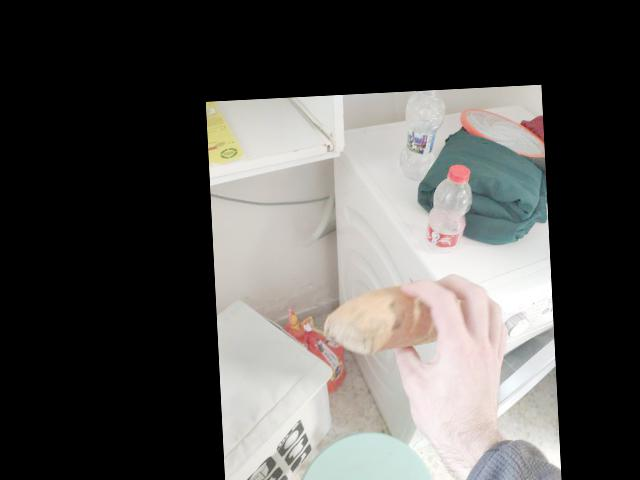sweet_potato: (356, 287, 458, 366)
